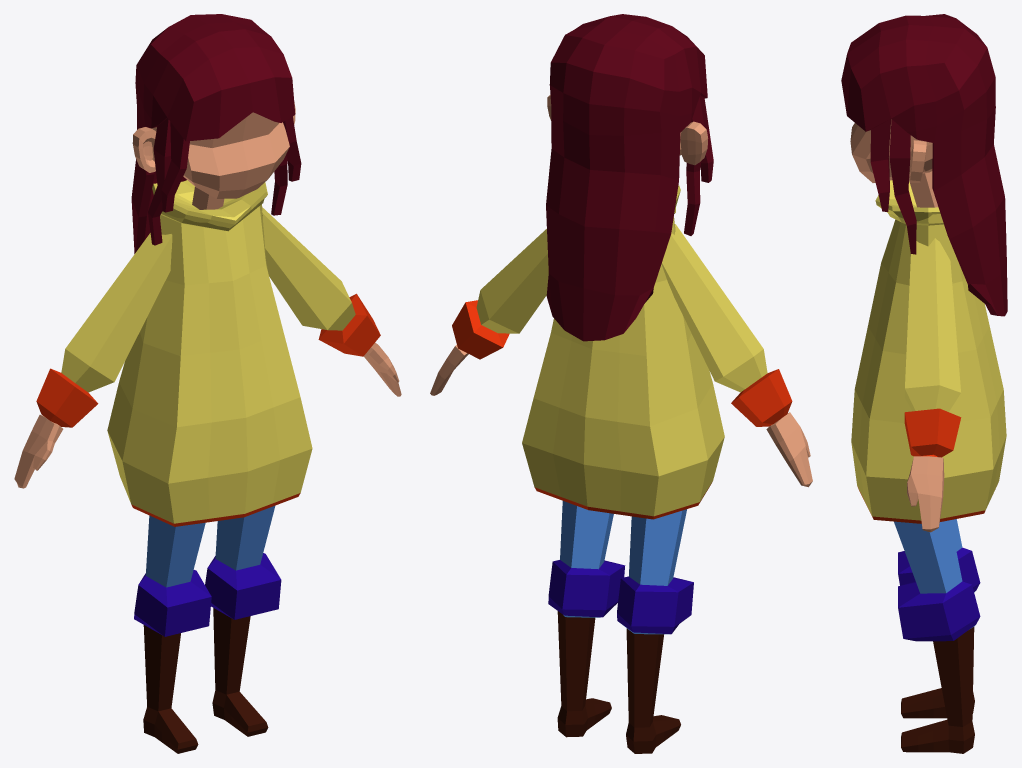
The model's file is girllowpoly.fbx.
The picture shows the model from 3 angles, left to right: view 1: azimuth 30°, elevation 25°; view 2: azimuth 150°, elevation 25°; view 3: azimuth 270°, elevation 25°; orthographic projection.
Parts seen in each view (by area): view 1: Jacket, Hair, Leg, Sleeve, Face, Ear; view 2: Hair, Jacket, Leg, Sleeve, Ear; view 3: Hair, Jacket, Leg, Sleeve, Face, Neck, Ear.
Boxes of the visible parts, box(x1,y1,x2,y2) form: Jacket: box(107, 180, 312, 526); Hair: box(131, 14, 301, 253); Leg: box(134, 506, 281, 753); Sleeve: box(14, 207, 401, 488); Face: box(151, 112, 289, 198); Ear: box(132, 102, 295, 172); Hair: box(546, 14, 713, 341); Jacket: box(522, 185, 724, 519); Leg: box(548, 501, 693, 753); Sleeve: box(430, 224, 812, 487); Ear: box(547, 95, 708, 165); Hair: box(841, 14, 1007, 316); Jacket: box(851, 180, 1006, 523); Leg: box(894, 519, 980, 753); Sleeve: box(904, 238, 961, 532); Face: box(850, 119, 932, 182); Neck: box(909, 171, 938, 207); Ear: box(910, 140, 926, 182).
Bounding box in the file's own units: 213 × 381 × 81.31.
